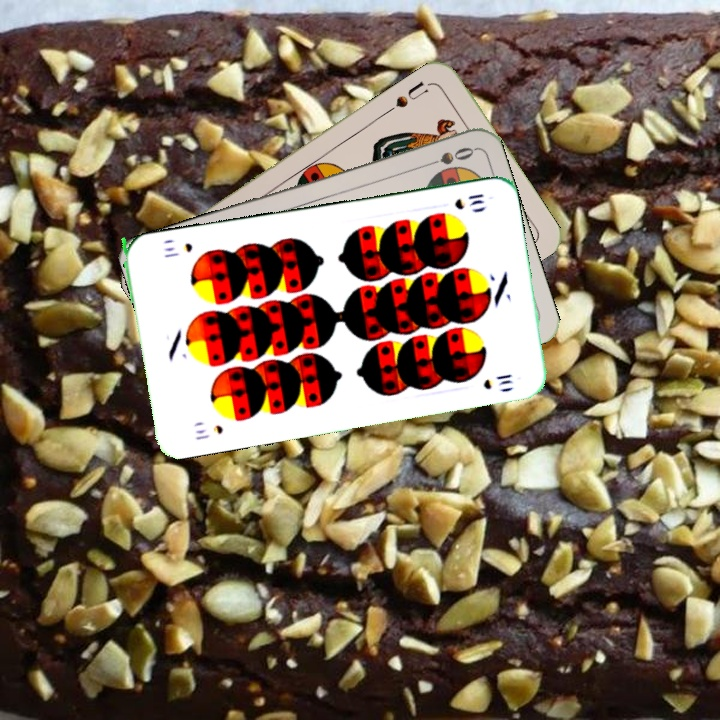S10: (451, 189, 489, 212), (191, 421, 226, 443)
SO: (419, 143, 477, 170)
SU: (383, 76, 436, 116)
